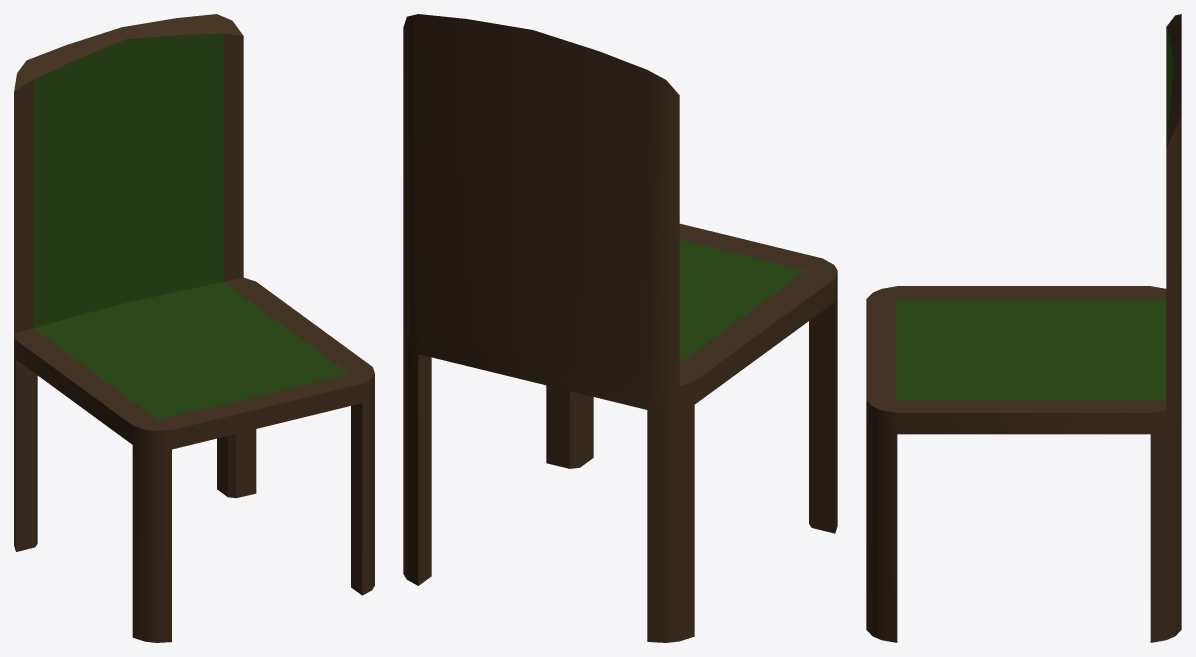
Rendered from ChairIguess.FBX.
The picture shows the model from 3 angles, left to right: view 1: azimuth 30°, elevation 25°; view 2: azimuth 150°, elevation 25°; view 3: azimuth 270°, elevation 25°; orthographic projection. The views are drawn at different scales.
Visible parts, largest first — view 1: Box001; view 2: Box001; view 3: Box001.
Part boxes in pixels (bbox=[...]): Box001: bbox=[14, 14, 374, 642]; Box001: bbox=[403, 14, 837, 642]; Box001: bbox=[866, 14, 1181, 642].
Bounding box in the file's own units: 47.28 × 91.3 × 49.64.
